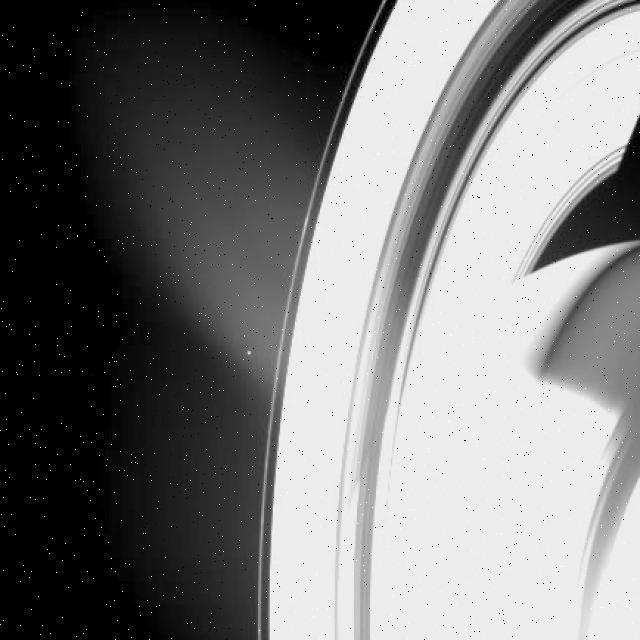Saturn: (257, 0, 640, 640)
